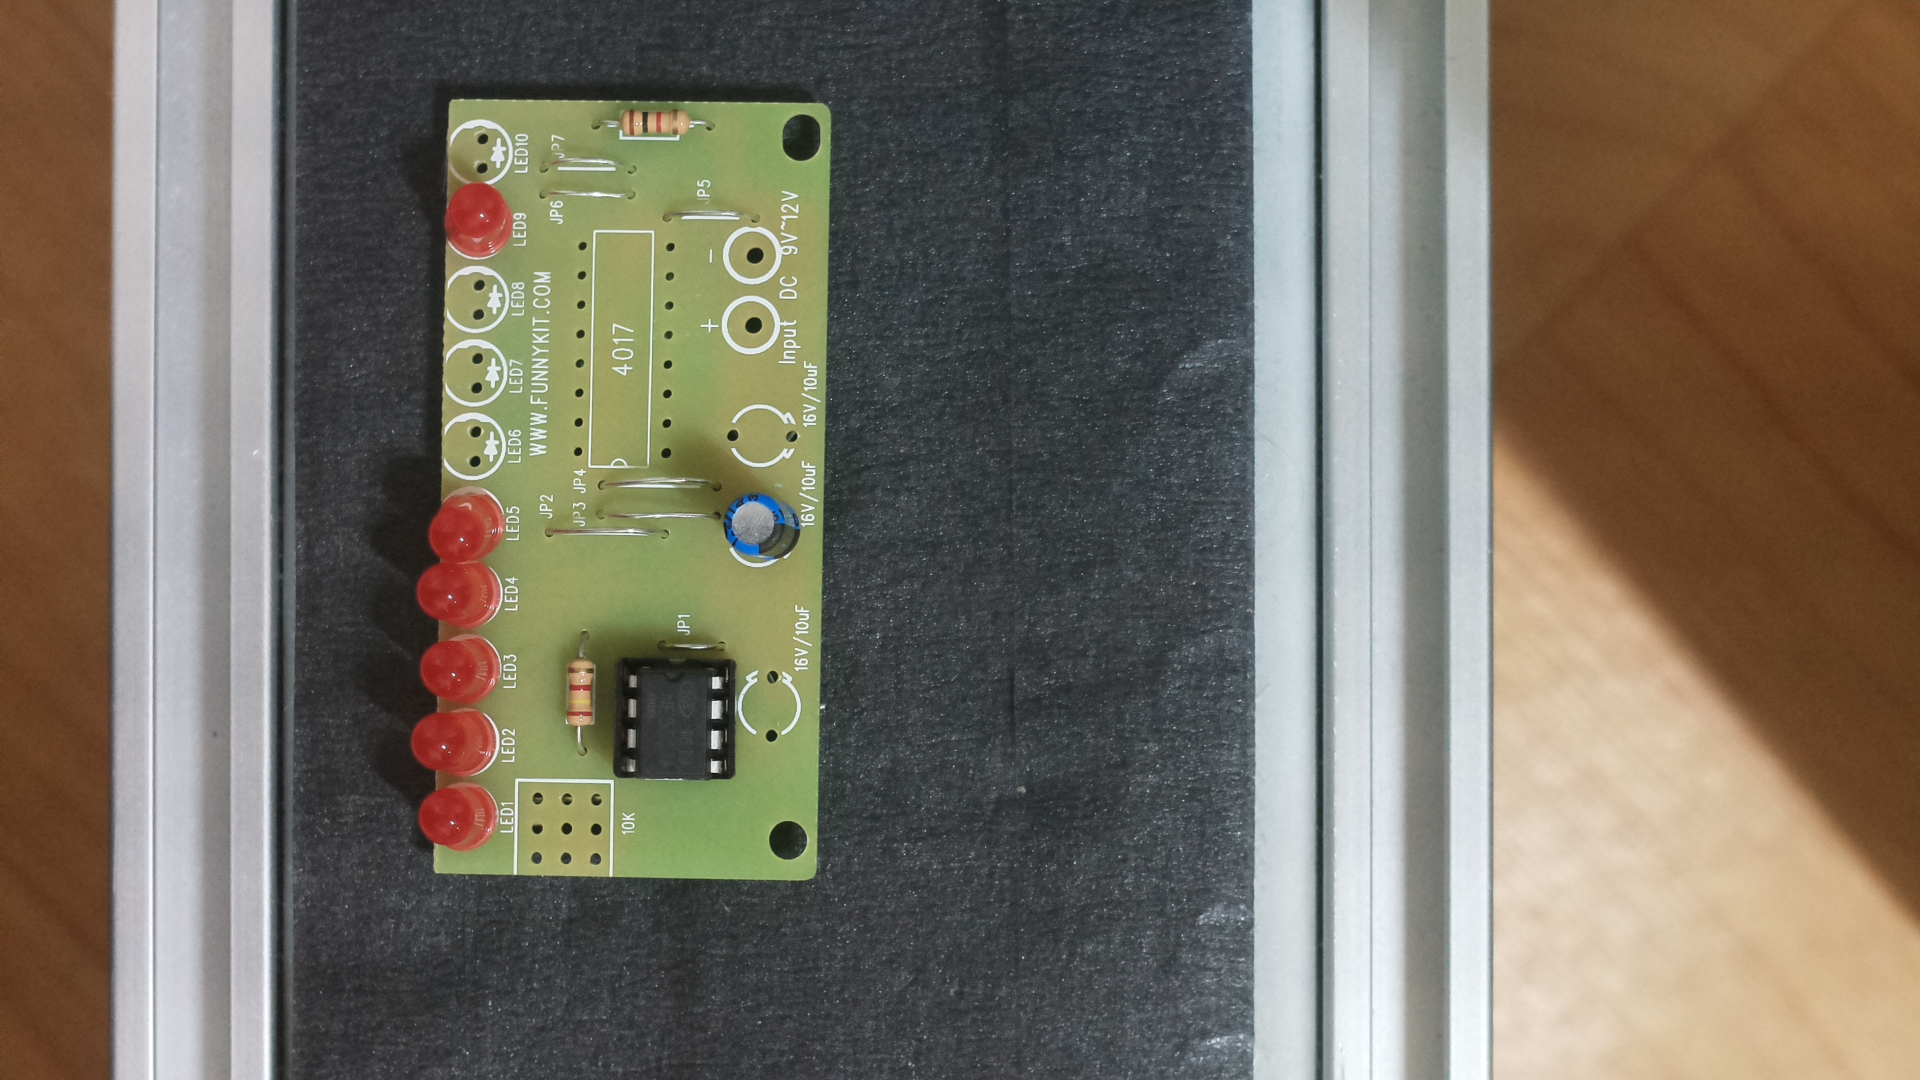B_Missing_part: (402, 70, 858, 885)
